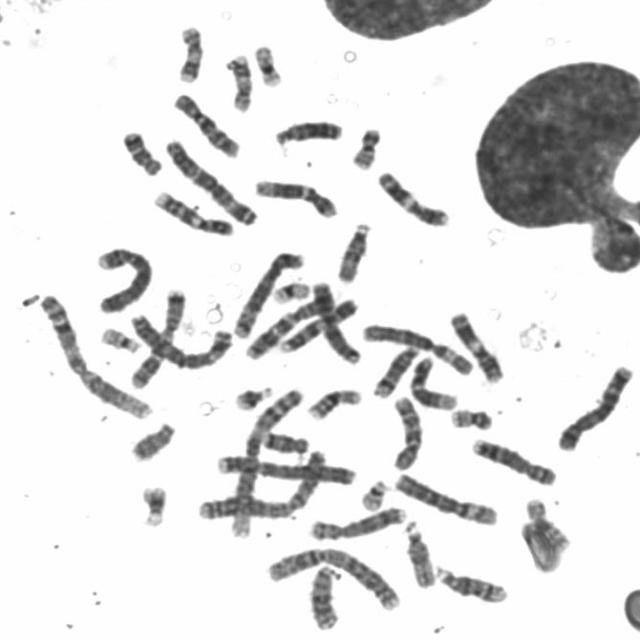A1: (33, 289, 156, 421), (220, 382, 308, 538)
A2: (192, 443, 331, 523), (259, 540, 404, 612)
A3: (158, 132, 260, 227), (125, 308, 235, 371)
B4: (209, 447, 361, 488), (90, 239, 156, 315)
B5: (551, 358, 635, 452), (228, 243, 308, 340)
C10: (167, 86, 243, 160), (385, 388, 425, 472)
C11: (370, 164, 452, 229), (443, 304, 507, 384)
C12: (248, 171, 341, 220), (404, 349, 460, 411)
C6: (356, 316, 477, 378), (389, 466, 501, 528)
C7: (236, 289, 361, 360), (123, 281, 189, 391)
C8: (465, 431, 560, 488), (303, 500, 409, 542)
C9: (271, 290, 362, 354), (148, 183, 237, 237)
D13: (304, 558, 343, 631), (268, 113, 345, 147)
D14: (428, 558, 510, 605), (366, 338, 423, 400)
D15: (398, 514, 438, 590), (331, 215, 374, 284)
E16: (519, 492, 572, 554), (301, 381, 364, 421)
E17: (170, 18, 206, 84), (221, 47, 256, 114)
E18: (116, 124, 164, 178), (257, 425, 311, 455)
F19: (248, 38, 285, 88), (265, 274, 313, 305)
F20: (345, 120, 385, 170), (444, 402, 496, 431)
G21: (134, 478, 170, 529), (227, 378, 276, 412)
G22: (95, 320, 143, 354), (354, 473, 391, 512)
X: (306, 273, 364, 366)
